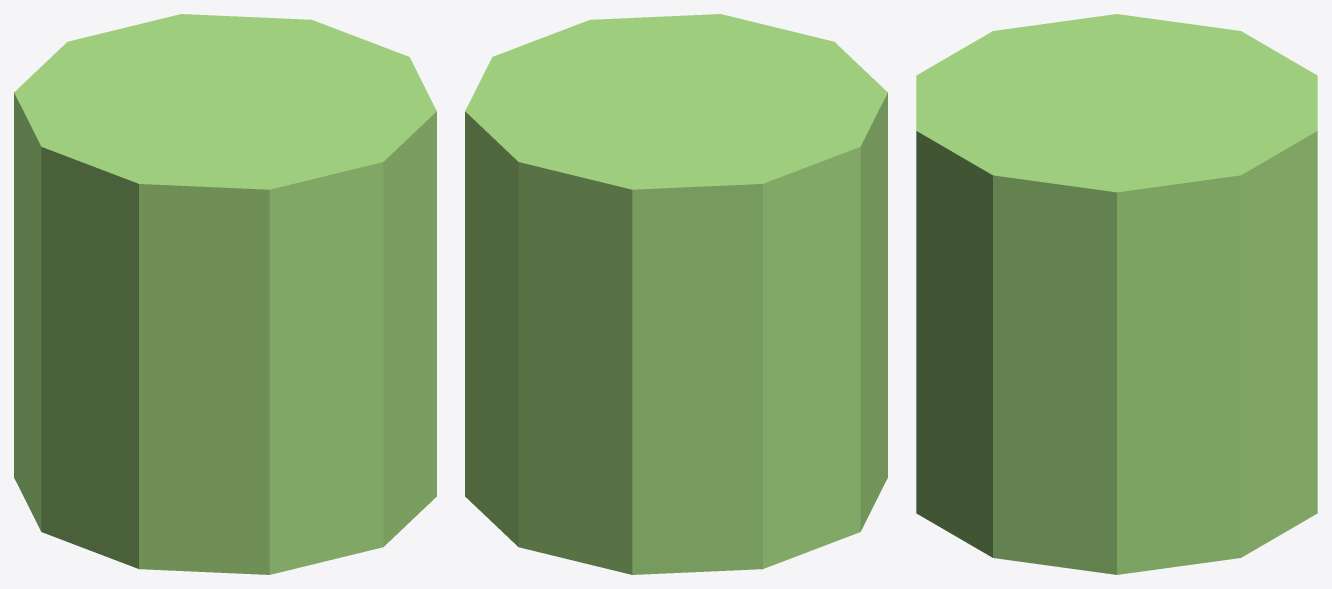
File: Player_2.fbx
3 renders of one model, left to right at view 1: azimuth 30°, elevation 25°; view 2: azimuth 150°, elevation 25°; view 3: azimuth 270°, elevation 25°, orthographic.
Parts seen in each view (by area): view 1: pCylinder2; view 2: pCylinder2; view 3: pCylinder2.
Part boxes in pixels (x1=…): pCylinder2: x1=14, y1=14, x2=436, y2=574; pCylinder2: x1=465, y1=14, x2=887, y2=574; pCylinder2: x1=916, y1=14, x2=1317, y2=574.
Bounding box in the file's own units: 1 × 1 × 0.9511.
